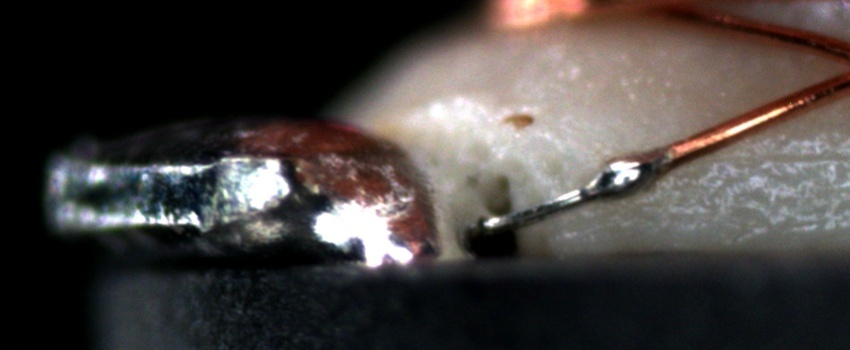DL: (716, 134, 849, 189)
TB: (591, 149, 663, 199)
TS: (479, 151, 670, 233)
TTCW: (471, 127, 713, 238)
